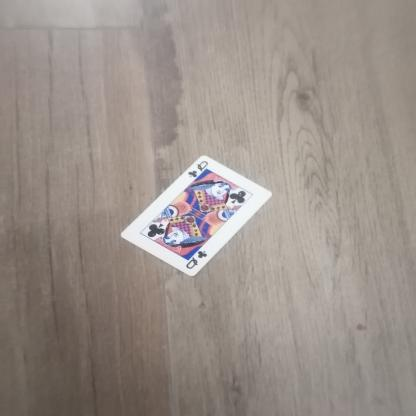QC: (182, 247, 212, 273), (188, 159, 212, 180)
